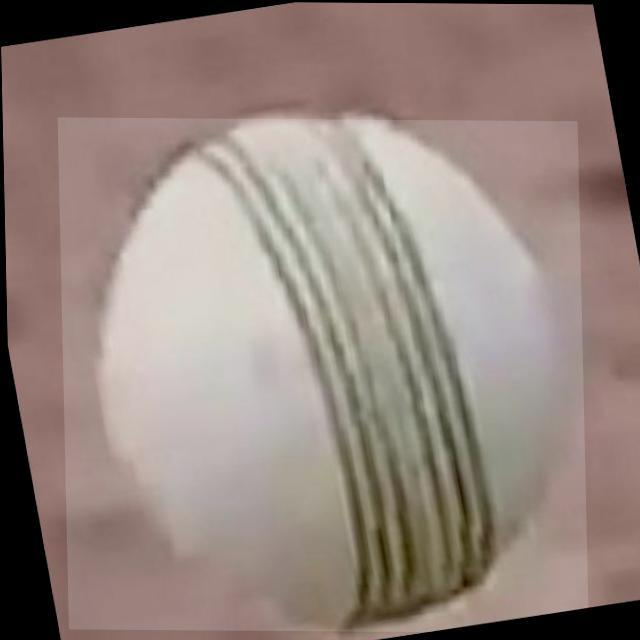-: (57, 118, 586, 632)
